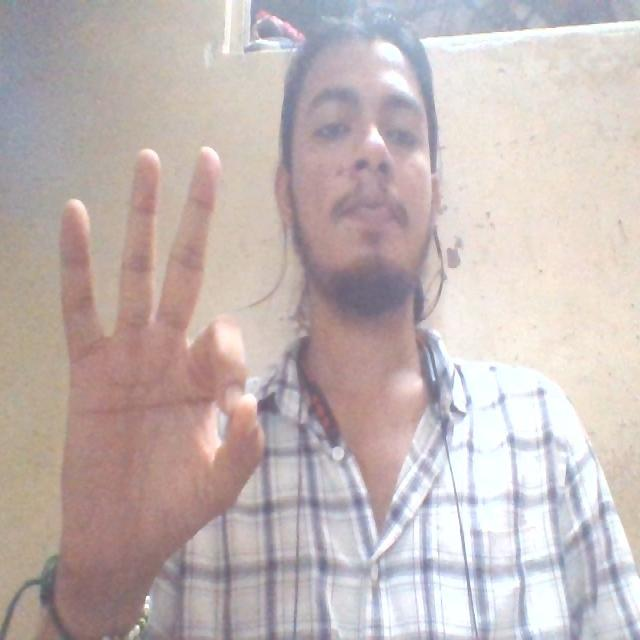Please: (34, 130, 272, 606)
